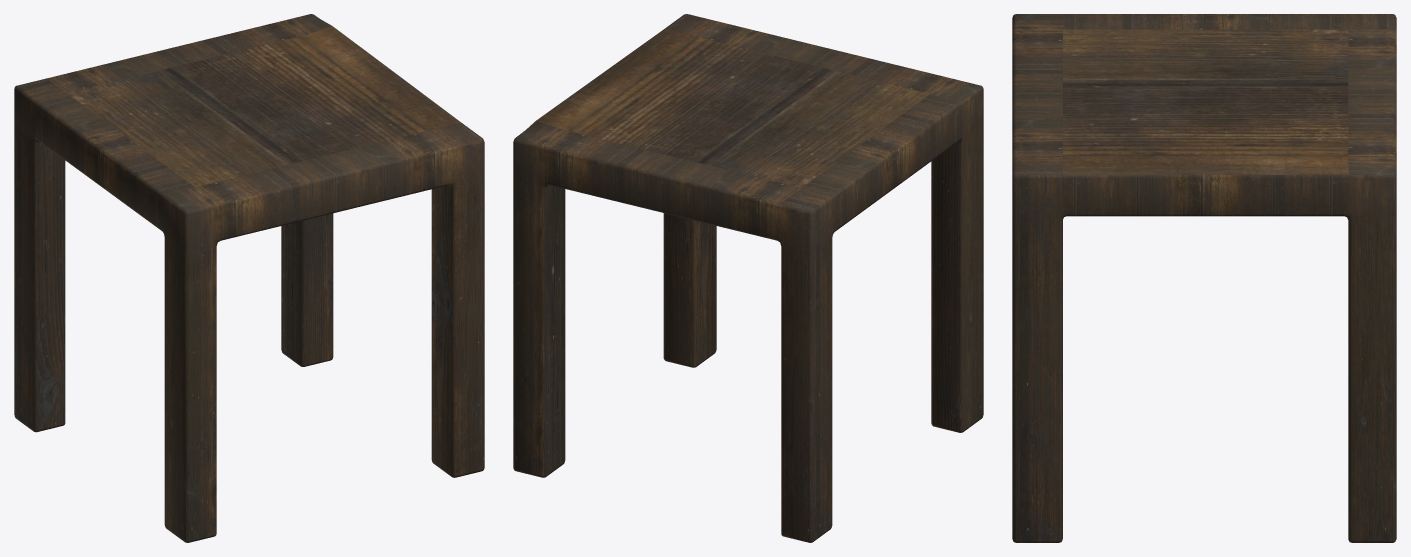
File: Room_G_bellows_base.gltf
The picture shows the model from 3 angles, left to right: view 1: azimuth 30°, elevation 25°; view 2: azimuth 150°, elevation 25°; view 3: azimuth 270°, elevation 25°; orthographic projection. The views are drawn at different scales.
Visible parts, largest first — view 1: Room_G_bellows_base_Cube.021; view 2: Room_G_bellows_base_Cube.021; view 3: Room_G_bellows_base_Cube.021.
Boxes of the visible parts, x1,y1,x2,y2 form: Room_G_bellows_base_Cube.021: [14, 14, 484, 542]; Room_G_bellows_base_Cube.021: [513, 14, 983, 542]; Room_G_bellows_base_Cube.021: [1012, 14, 1396, 542].
Bounding box in the file's own units: 0.5495 × 0.588 × 0.5495.
Materials: 1 (1 with a texture image).
